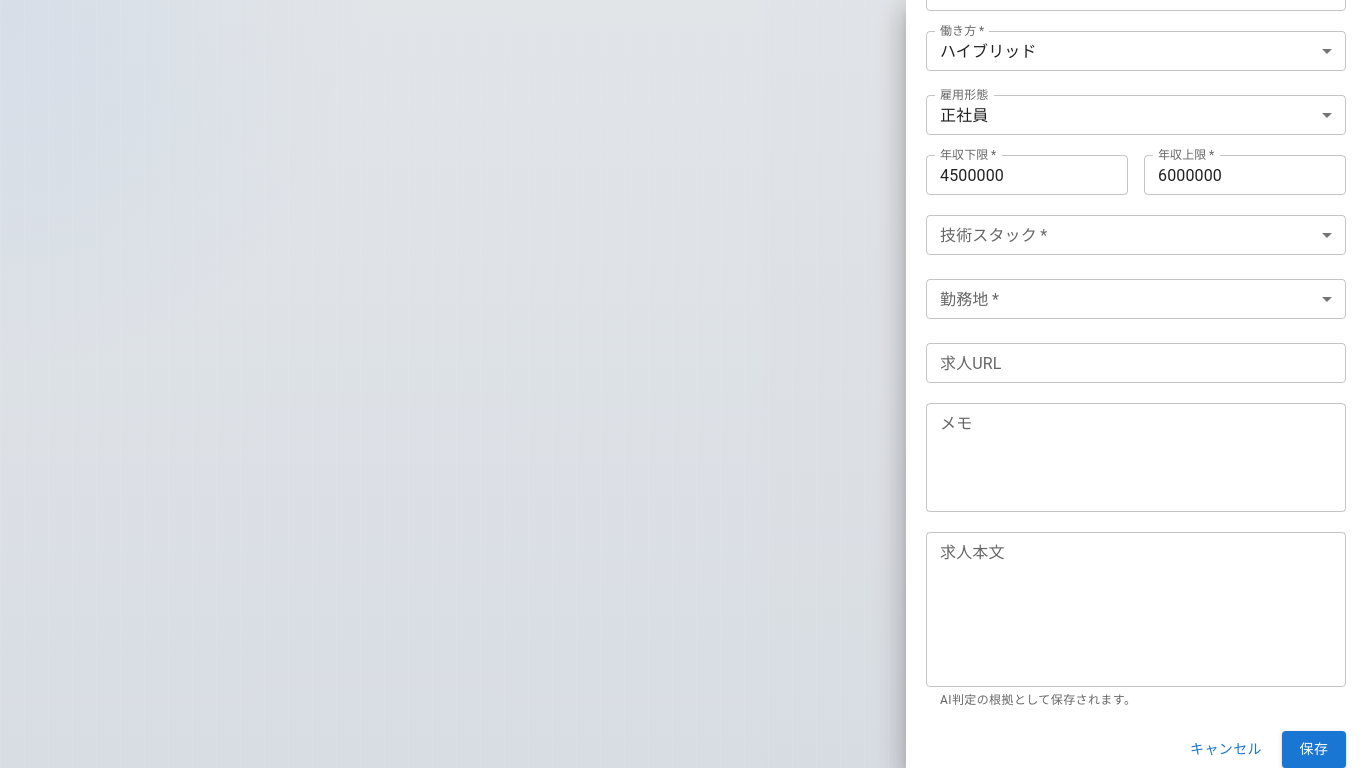
Test case: JobFormDrawer › shows required validation errors and blocks submit when required fields are missing
(page scrolled)
Click the button "保存" at (1314, 750), box [1282, 731, 1346, 767]
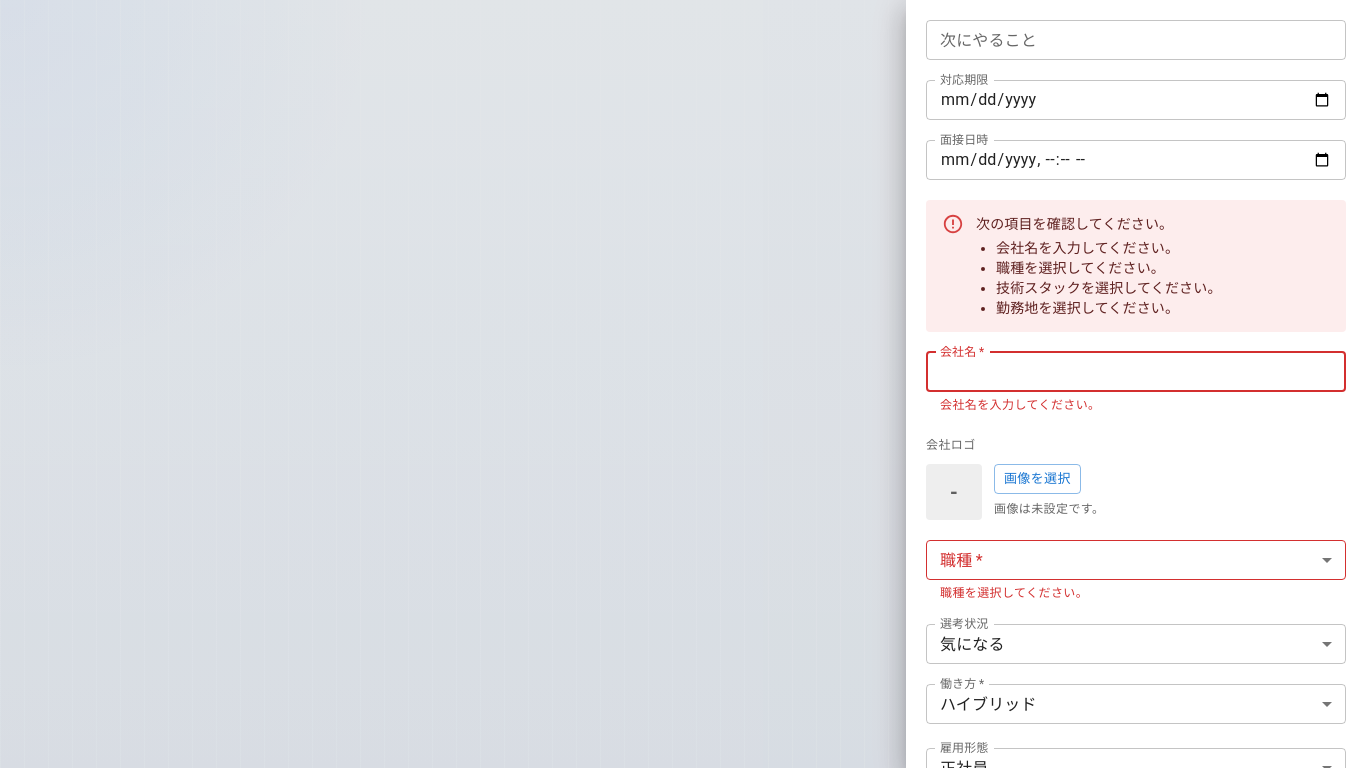
Now the number of list items "会社名を入力してください。" is 2, box [996, 240, 1179, 256]; [940, 398, 1100, 412]
Now the number of list items "職種を選択してください。" is 2, box [996, 260, 1165, 276]; [940, 586, 1088, 600]
Now the number of list items "技術スタックを選択してください。" is 2
